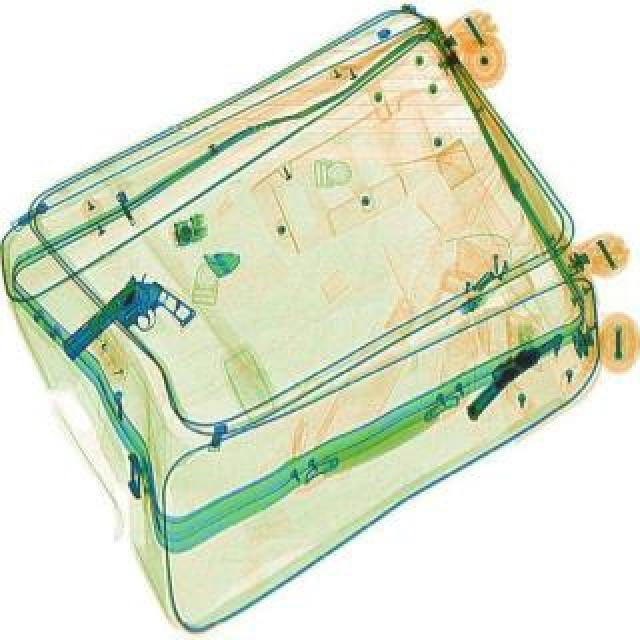gun: (58, 268, 202, 400), (452, 330, 580, 424)
